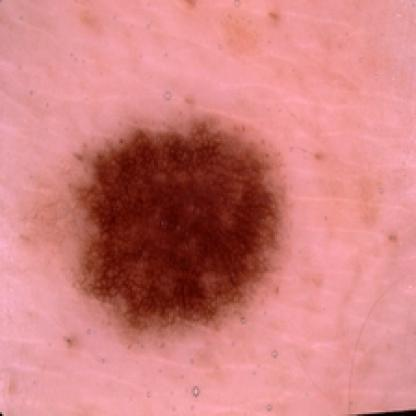malignant: (80, 121, 282, 318)
